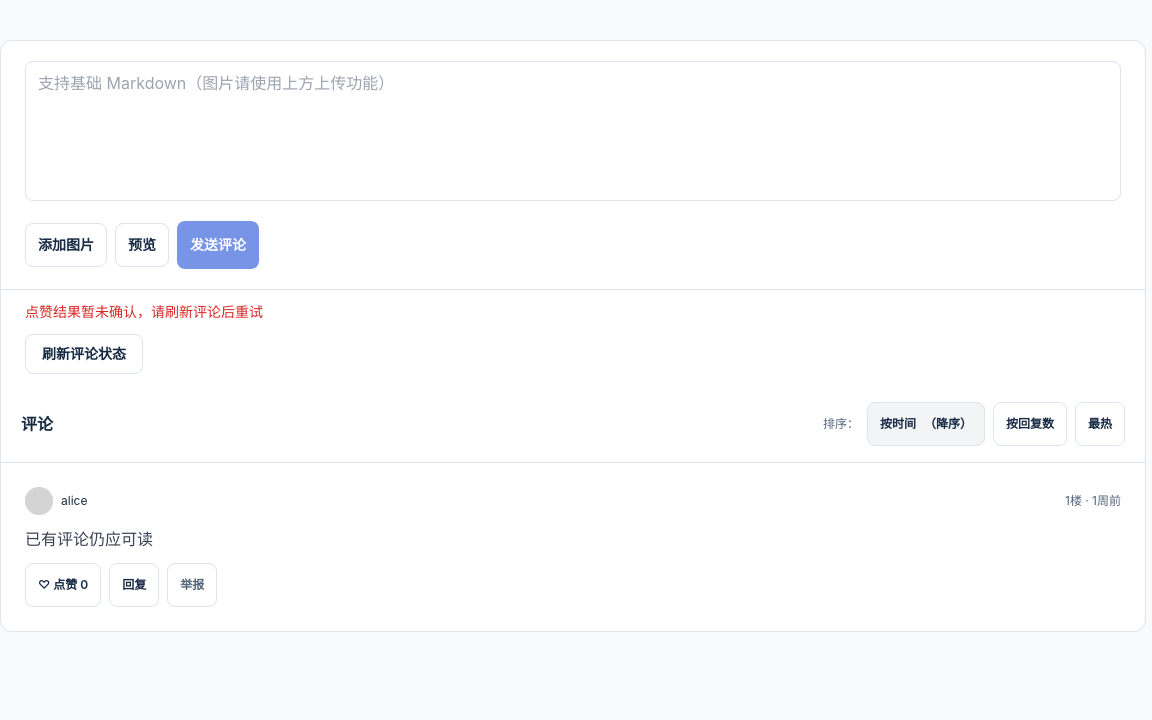
Comments independent load and operation feedback › offers a read-only state refresh after an invalid interaction response
This screenshot has width=1152, height=720.
Step 1. Click the button "刷新评论状态" → (84, 354), box [25,334,143,374]
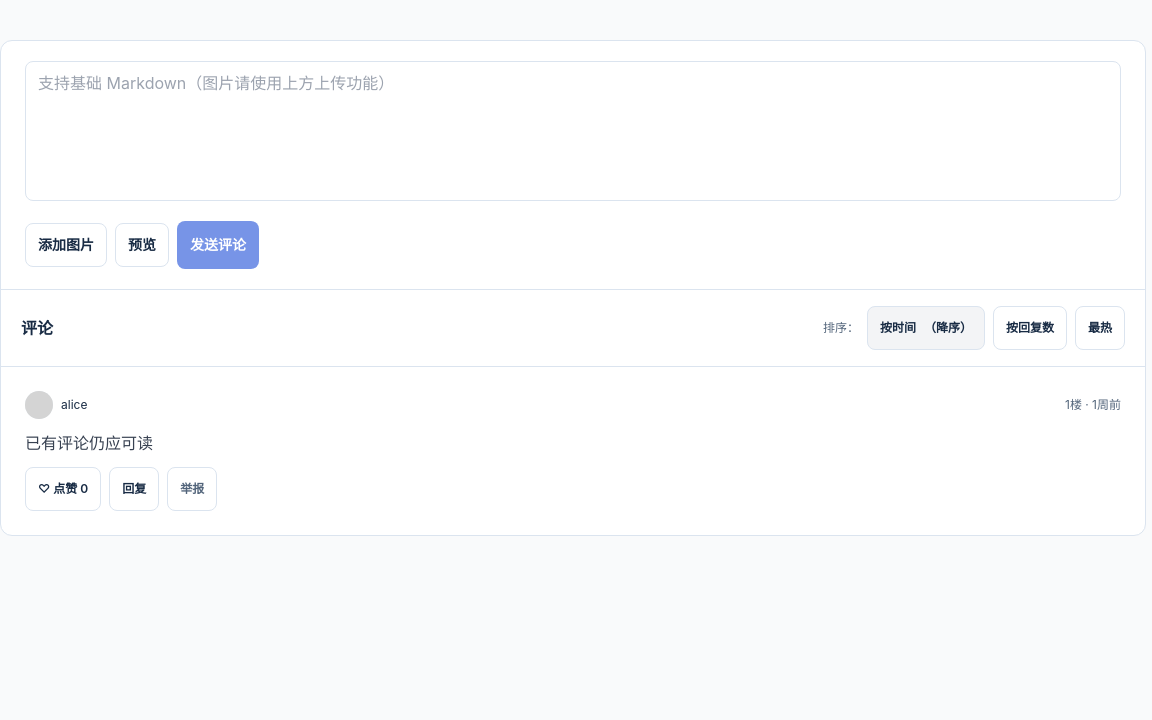
Result: the text "点赞结果暂未确认" is gone
